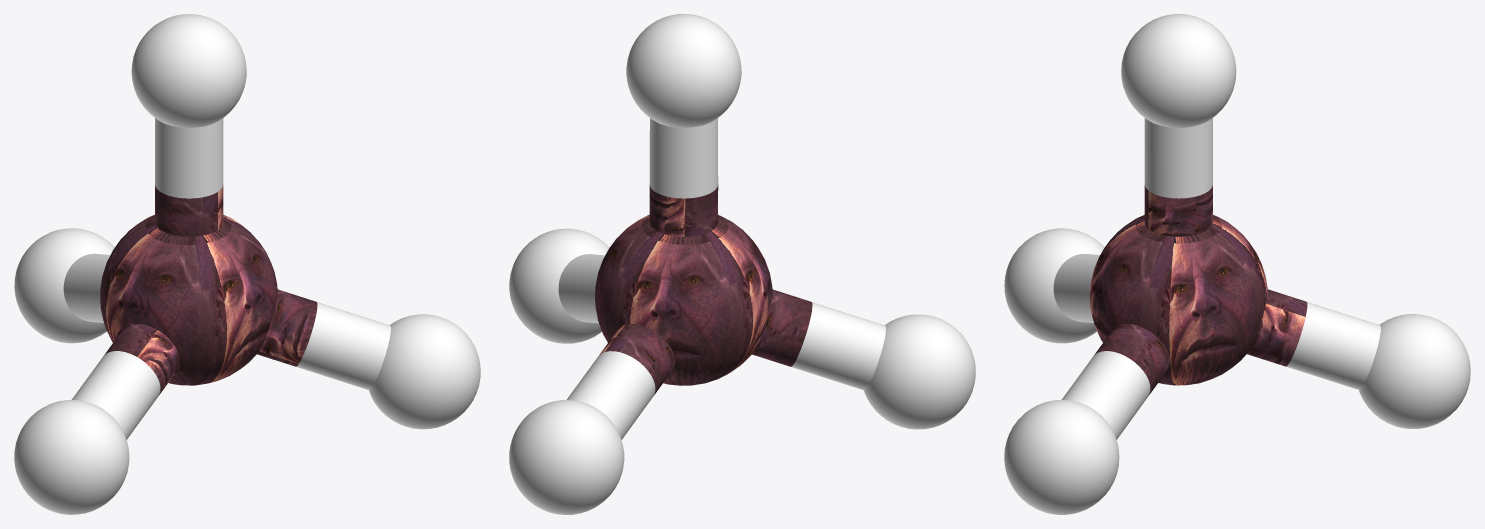
The model's file is methanos.glb.
The picture shows the model from 3 angles, left to right: view 1: azimuth 30°, elevation 25°; view 2: azimuth 150°, elevation 25°; view 3: azimuth 270°, elevation 25°; orthographic projection.
Parts seen in each view (by area): view 1: methanos; view 2: methanos; view 3: methanos.
Part boxes in pixels (x1,y1,x2,y2): methanos: (14, 14, 480, 514); methanos: (509, 14, 975, 514); methanos: (1004, 14, 1470, 514).
Bounding box in the file's own units: 2.29 × 1.96 × 2.05.
2 materials, 1 textured.
